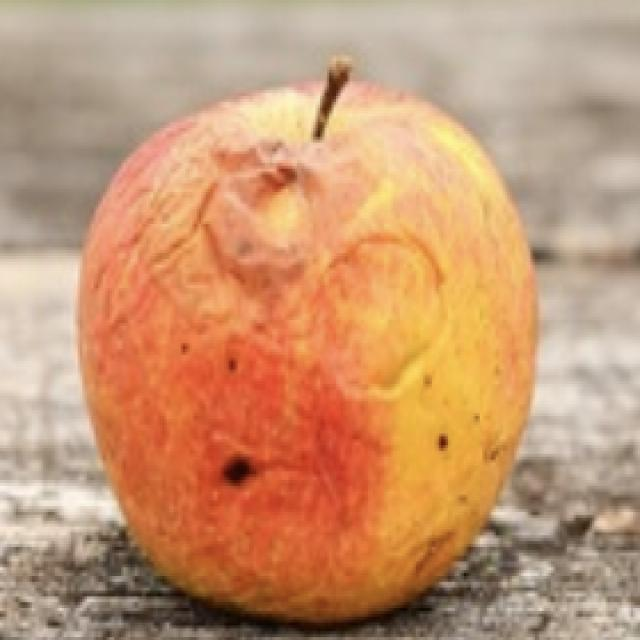Rotten: (68, 77, 570, 618)
